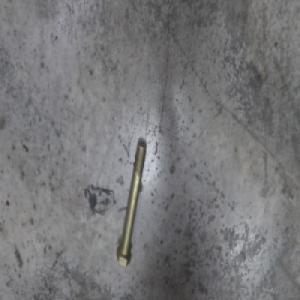Bolt: (117, 140, 151, 261)
